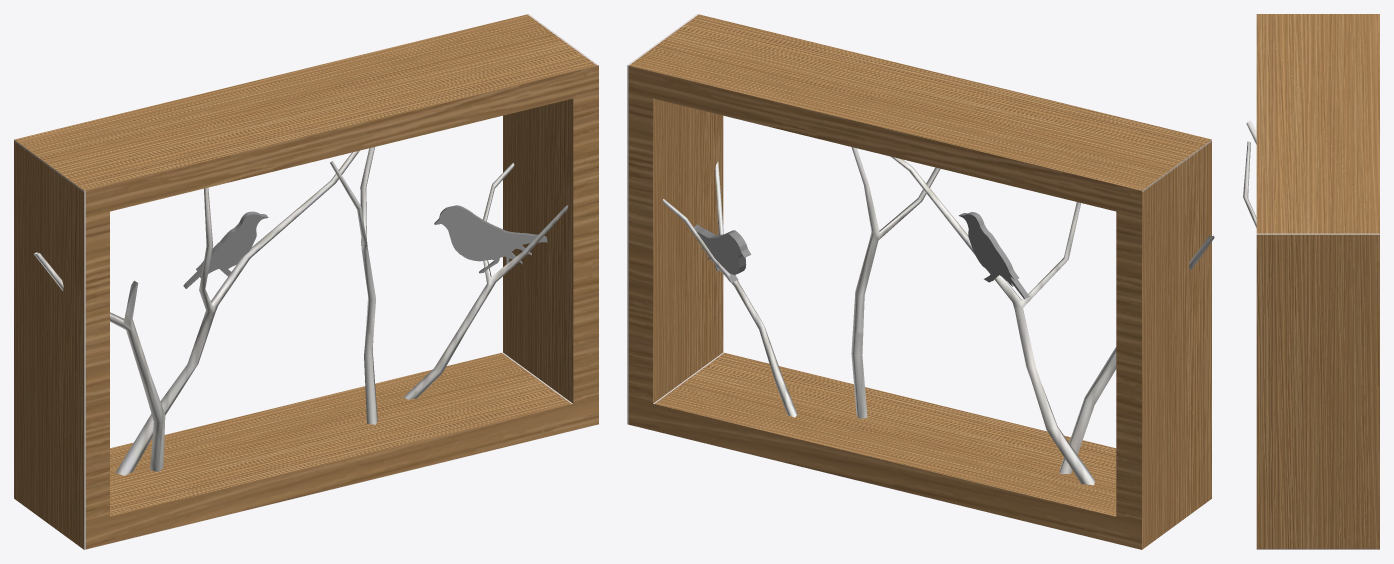
File: bird frame.FBX
3 views of the same model, side by side, from view 1: azimuth 30°, elevation 25°; view 2: azimuth 150°, elevation 25°; view 3: azimuth 270°, elevation 25° (orthographic). The views are drawn at different scales.
Parts seen in each view (by area): view 1: Layer:01, Object01, Object05, Object02, Object03, Object04, Text01; view 2: Layer:01, Object01, Object02, Object04, Text01, Object03, Object05; view 3: Layer:01, Object02.
Boxes of the visible parts, x1,y1,x2,y2 form: Layer:01: (14, 14, 598, 549); Object01: (115, 150, 359, 475); Object05: (434, 205, 547, 273); Object02: (330, 147, 377, 424); Object03: (34, 252, 165, 471); Object04: (403, 163, 568, 399); Text01: (183, 211, 268, 288); Layer:01: (627, 14, 1211, 549); Object01: (890, 156, 1095, 485); Object02: (851, 147, 940, 418); Object04: (663, 161, 797, 417); Text01: (959, 212, 1029, 299); Object03: (1059, 235, 1214, 474); Object05: (694, 224, 750, 282); Layer:01: (1256, 14, 1379, 549); Object02: (1243, 141, 1256, 227).
Size of the model in its own units: 51.76 by 32.81 by 12.91.
3 materials, 2 textured.
